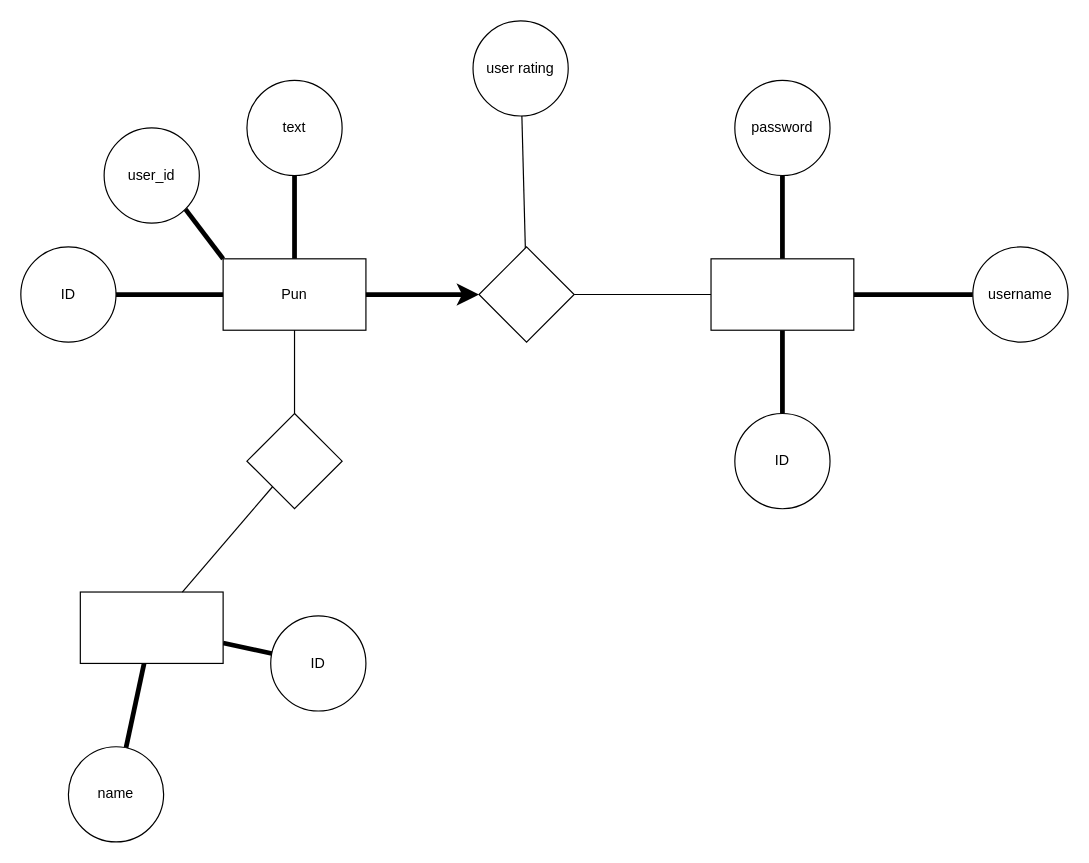
Image size: 1089x863. Some labels were removed from this diagram. Here are the shapes that lost their labels. From the top down, the centre of each, then its label:
pixel 526 294: is written by
pixel 782 294: User
pixel 294 460: belongs to one or more
pixel 151 627: Category
